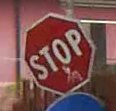stop: (15, 9, 94, 102)
